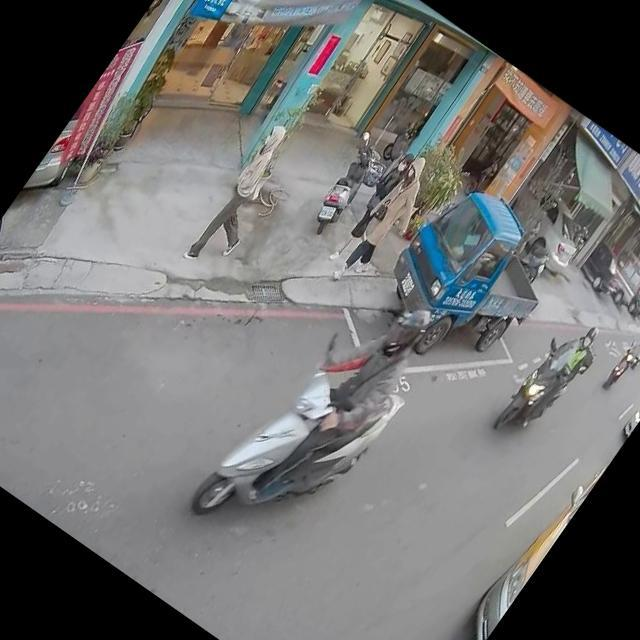person: (229, 272, 454, 542), (182, 112, 316, 277), (325, 144, 448, 292), (494, 307, 606, 440), (324, 142, 425, 272), (624, 327, 640, 363)
